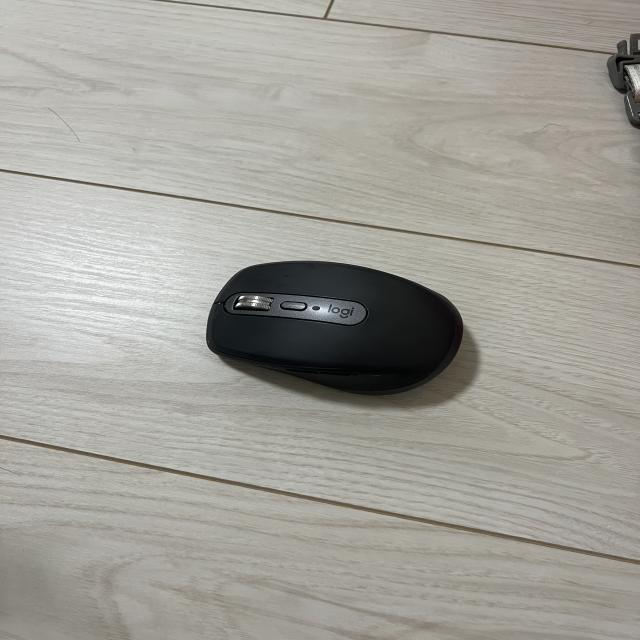mouse: (210, 260, 468, 403)
